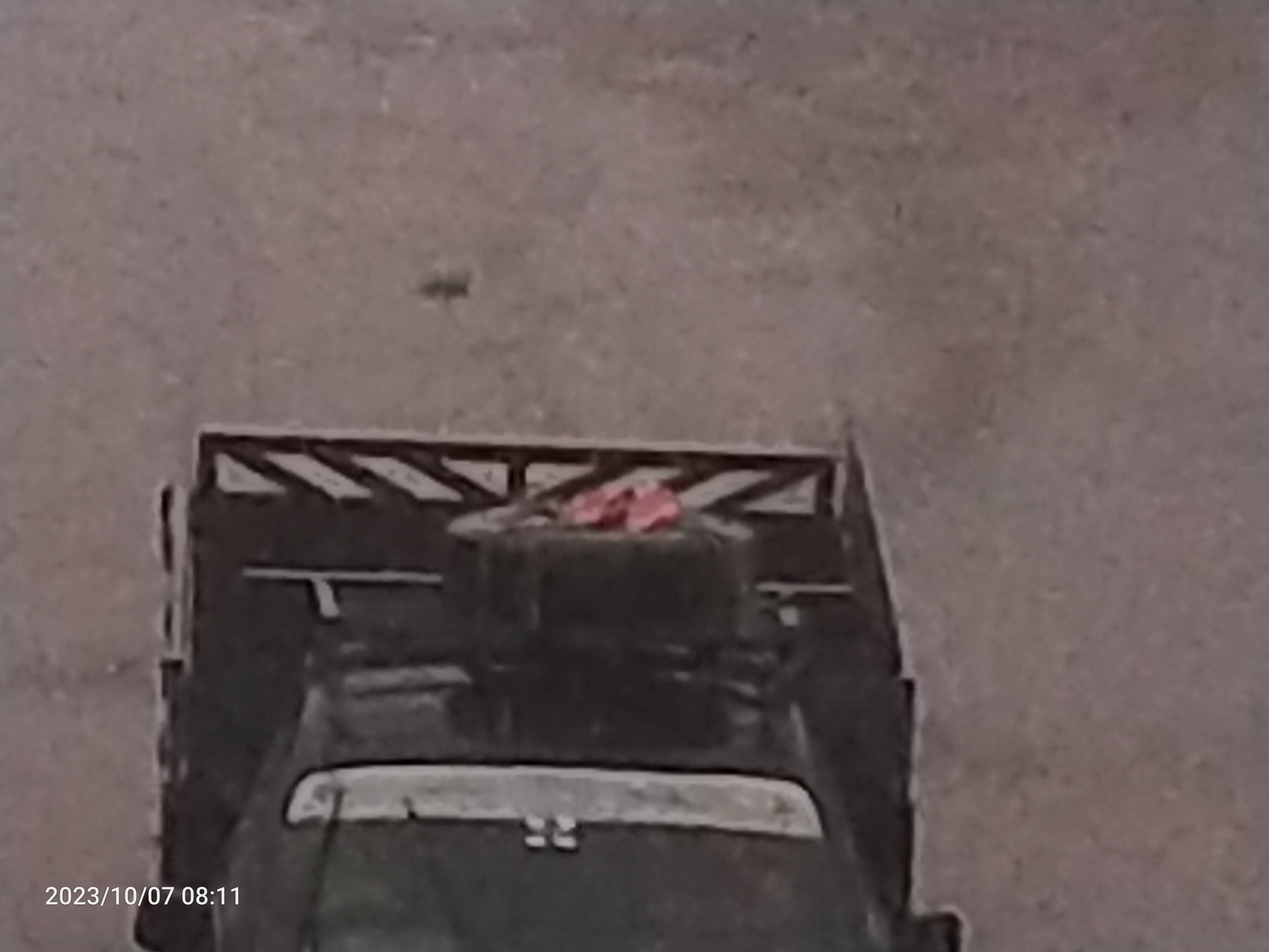Truck: (98, 294, 988, 952)
